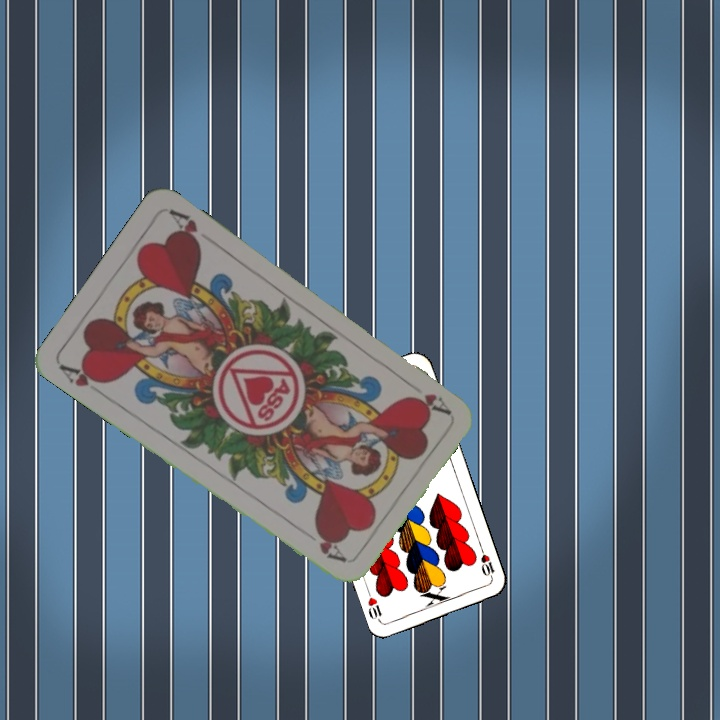H10: (477, 543, 497, 583)
HA: (400, 375, 452, 417), (55, 359, 111, 390)
